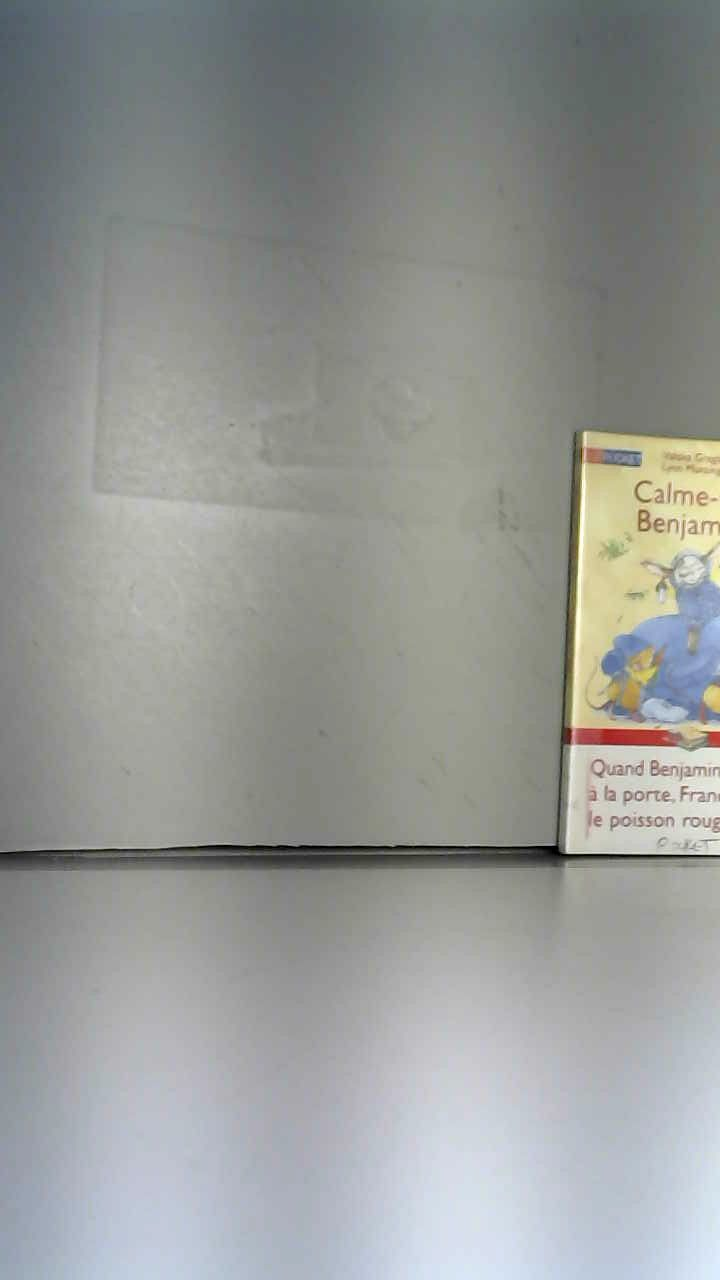book: (504, 418, 720, 883)
